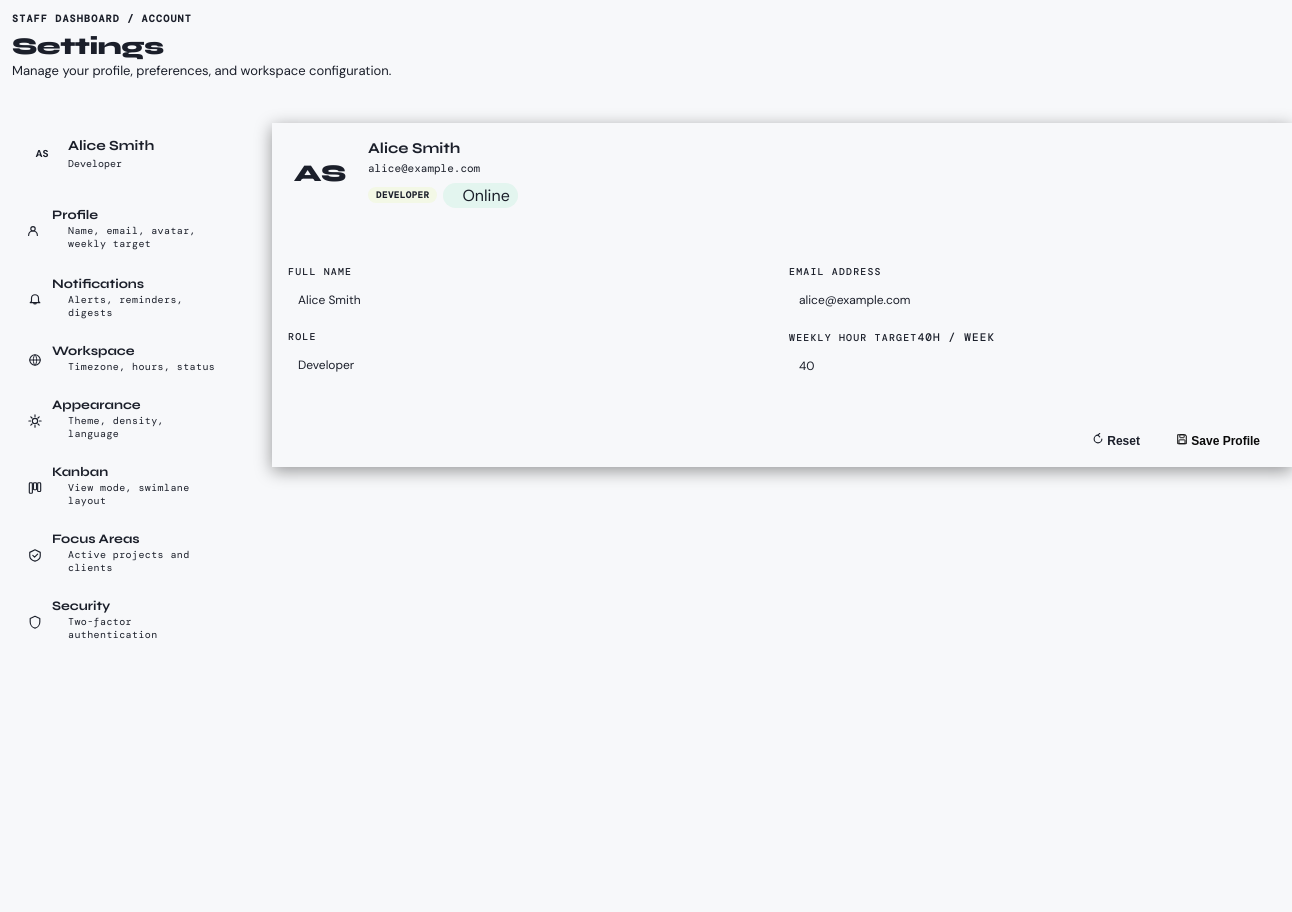
Scenario: SettingsPage — Notifications tab › shows unsaved banner when hasNotificationsChanges=true
Click the tab "Notifications Alerts, reminders, digests" at {"x": 132, "y": 301}, box x1=12 y1=268 x2=252 y2=335
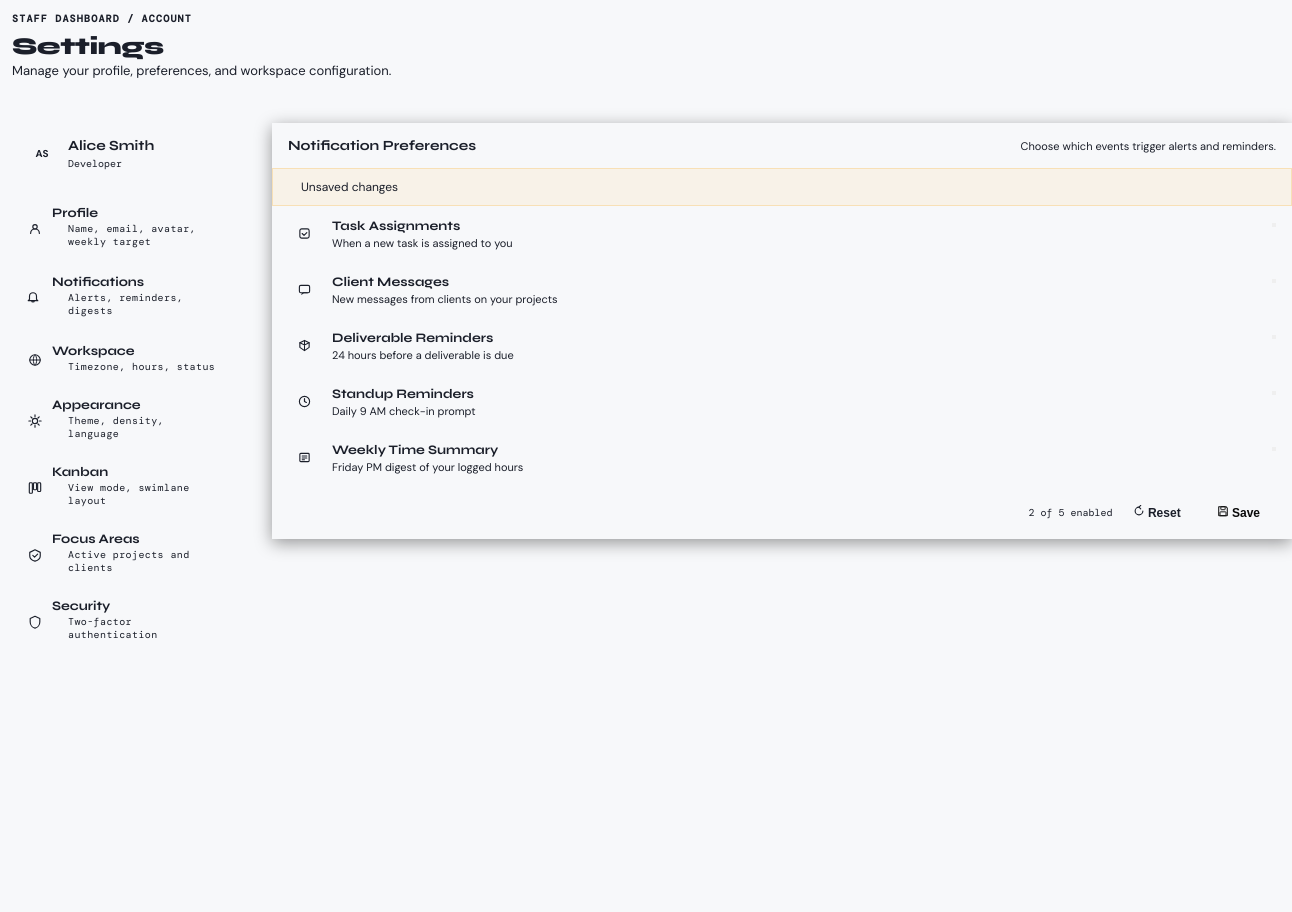
expect the text "Unsaved changes" is shown: met, box x1=272 y1=168 x2=1291 y2=206
